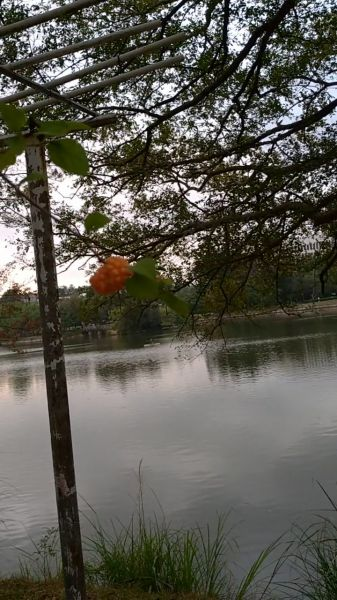eggs: (87, 250, 137, 300)
